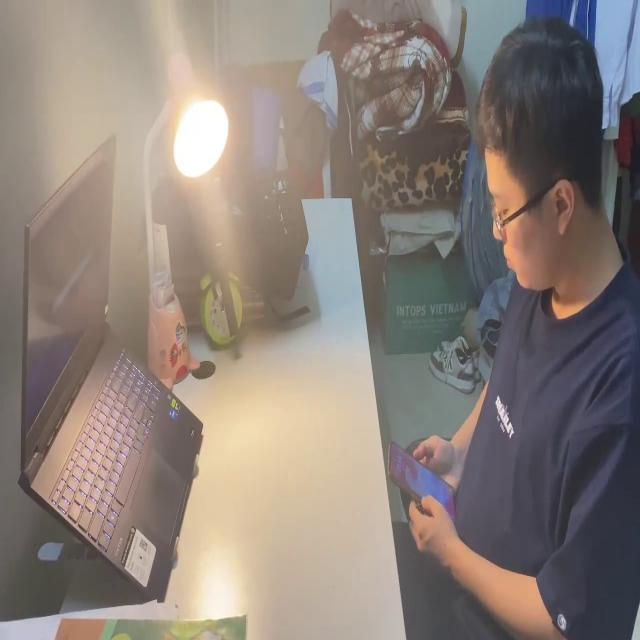book: (0, 596, 246, 640)
laptop: (16, 127, 204, 599)
phone: (388, 432, 460, 530)
student: (399, 9, 640, 640)
